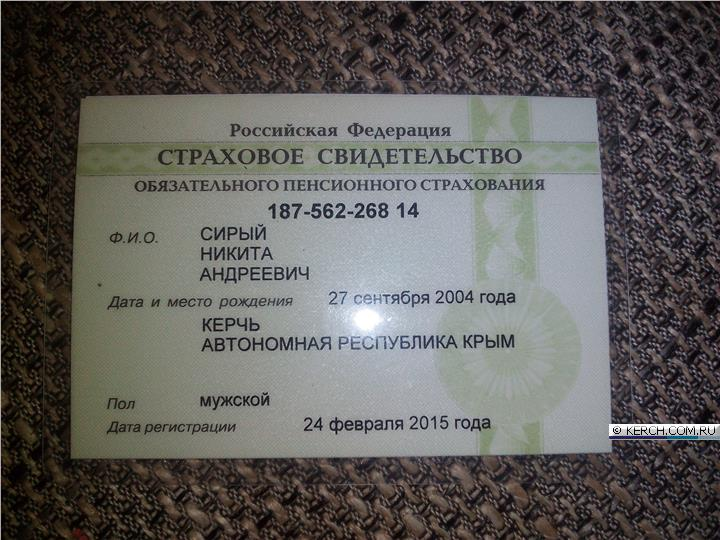text: (198, 315, 517, 353), (296, 412, 494, 436), (326, 289, 524, 310), (268, 197, 426, 222), (192, 264, 319, 282), (193, 242, 279, 262), (195, 392, 282, 410), (195, 222, 267, 243)
